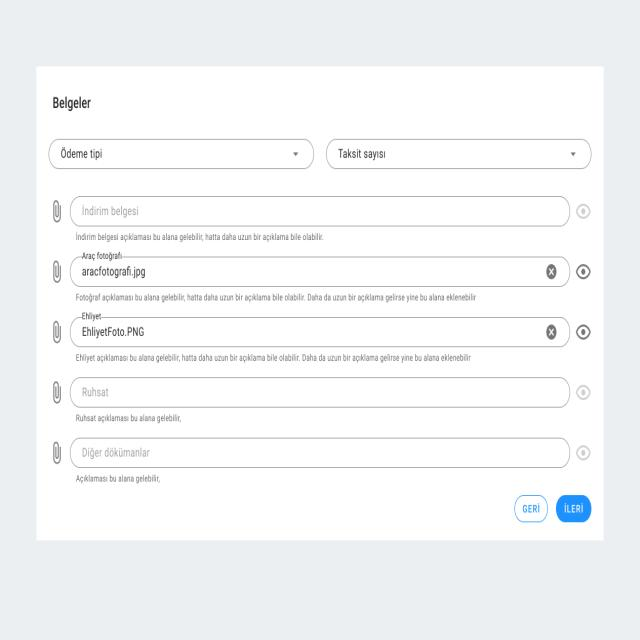QLabel: (74, 291, 478, 303), (74, 353, 472, 364), (74, 230, 324, 243), (75, 413, 183, 424), (74, 474, 161, 486), (50, 94, 91, 113), (562, 503, 584, 514), (521, 503, 541, 514)
VBtn: (556, 494, 591, 523), (514, 494, 548, 523)
VCard: (35, 65, 604, 543)
VCombobox: (48, 138, 314, 171), (326, 138, 592, 170)
VContainer: (0, 0, 640, 640)
VFileInput: (50, 250, 572, 290), (48, 312, 574, 350), (49, 192, 574, 228), (51, 374, 573, 410), (51, 435, 572, 471)
VIcon: (576, 204, 592, 222), (575, 263, 591, 280), (576, 444, 591, 461), (576, 323, 591, 340), (576, 384, 591, 400)
